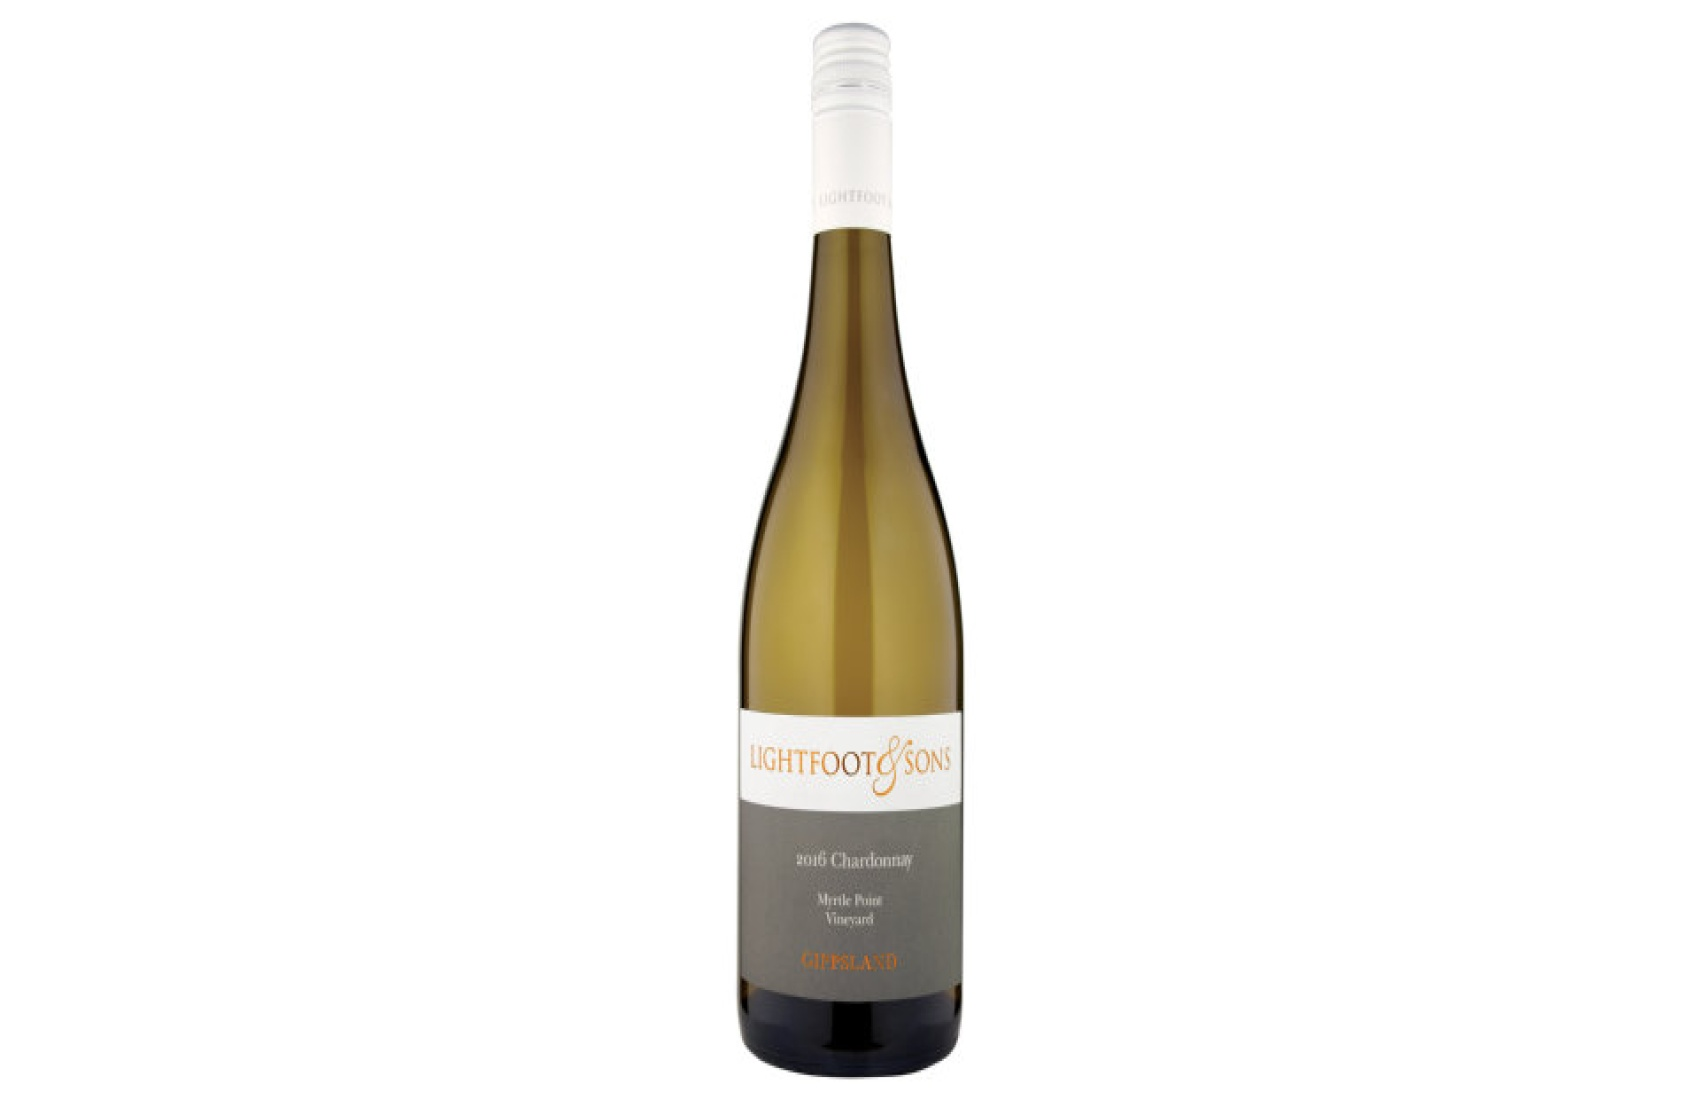wine: (741, 20, 959, 1084)
